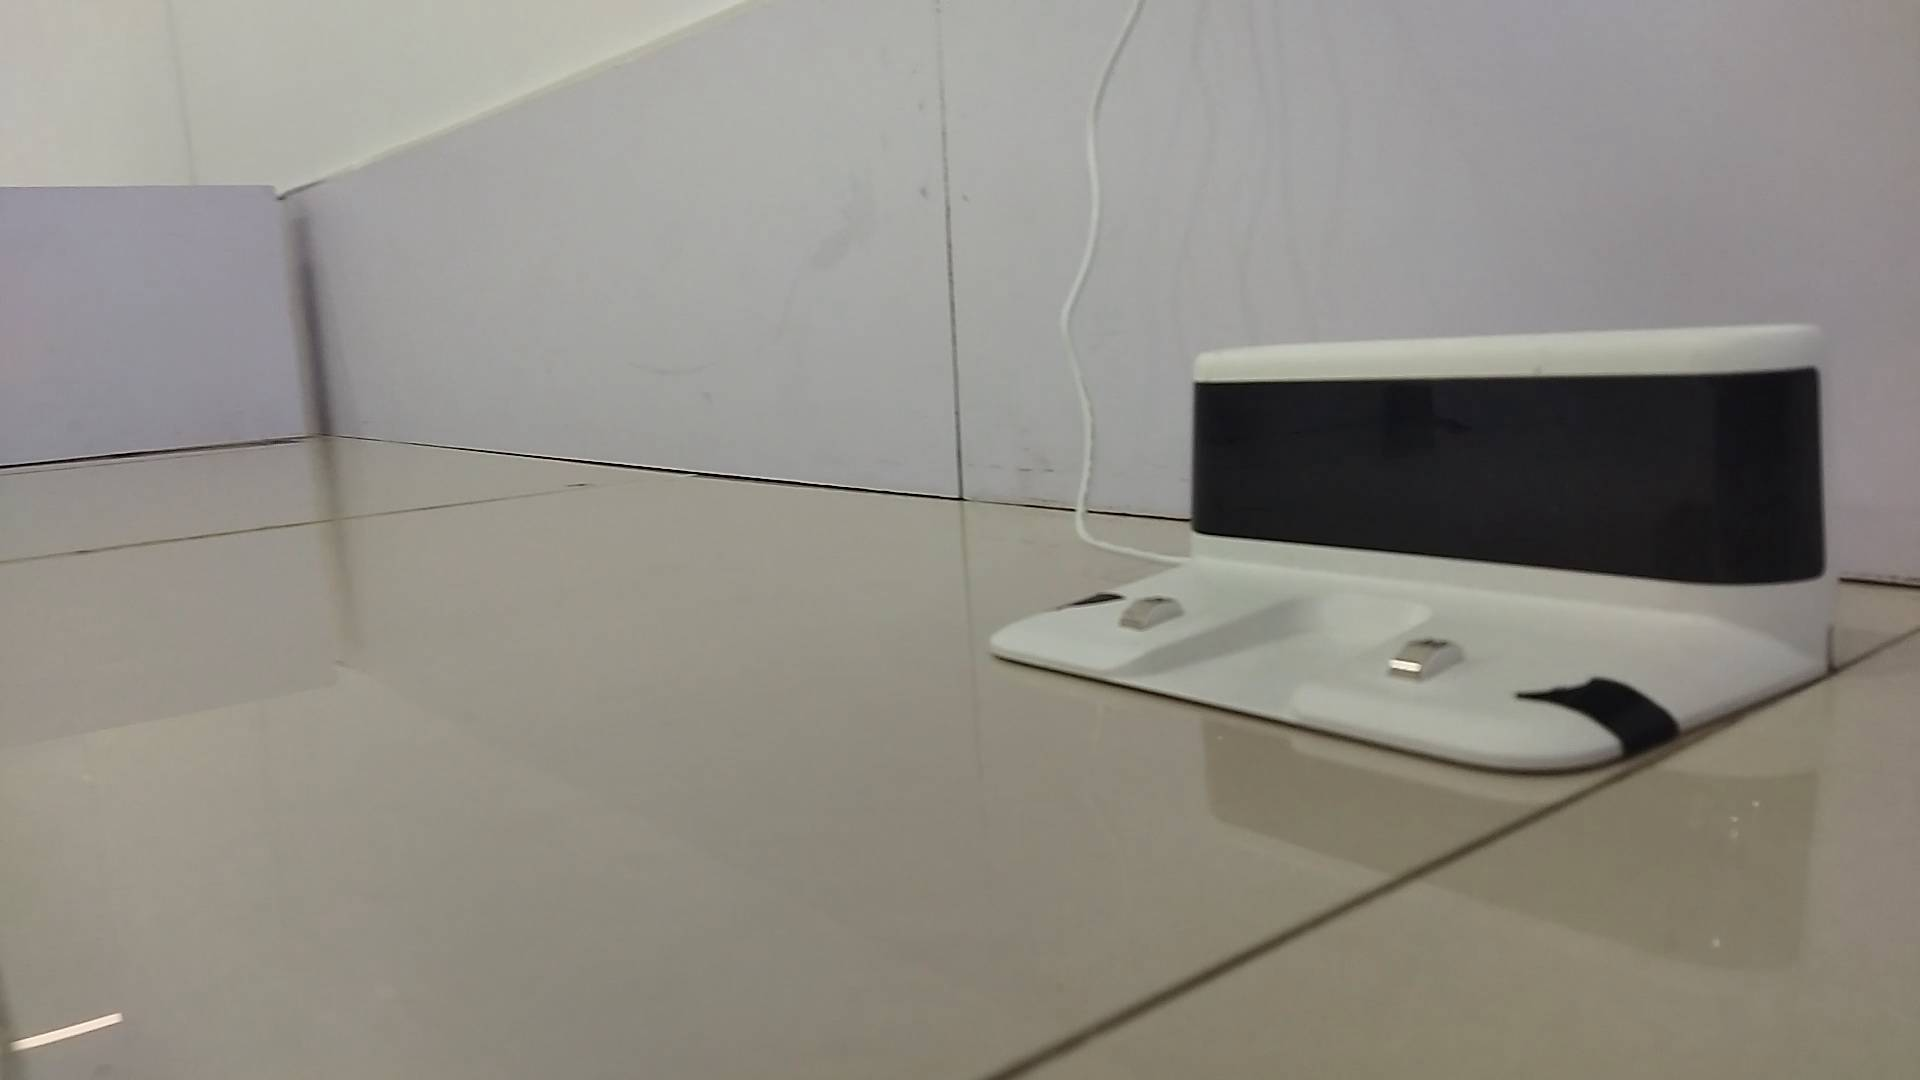recharge seat: (992, 322, 1836, 774)
